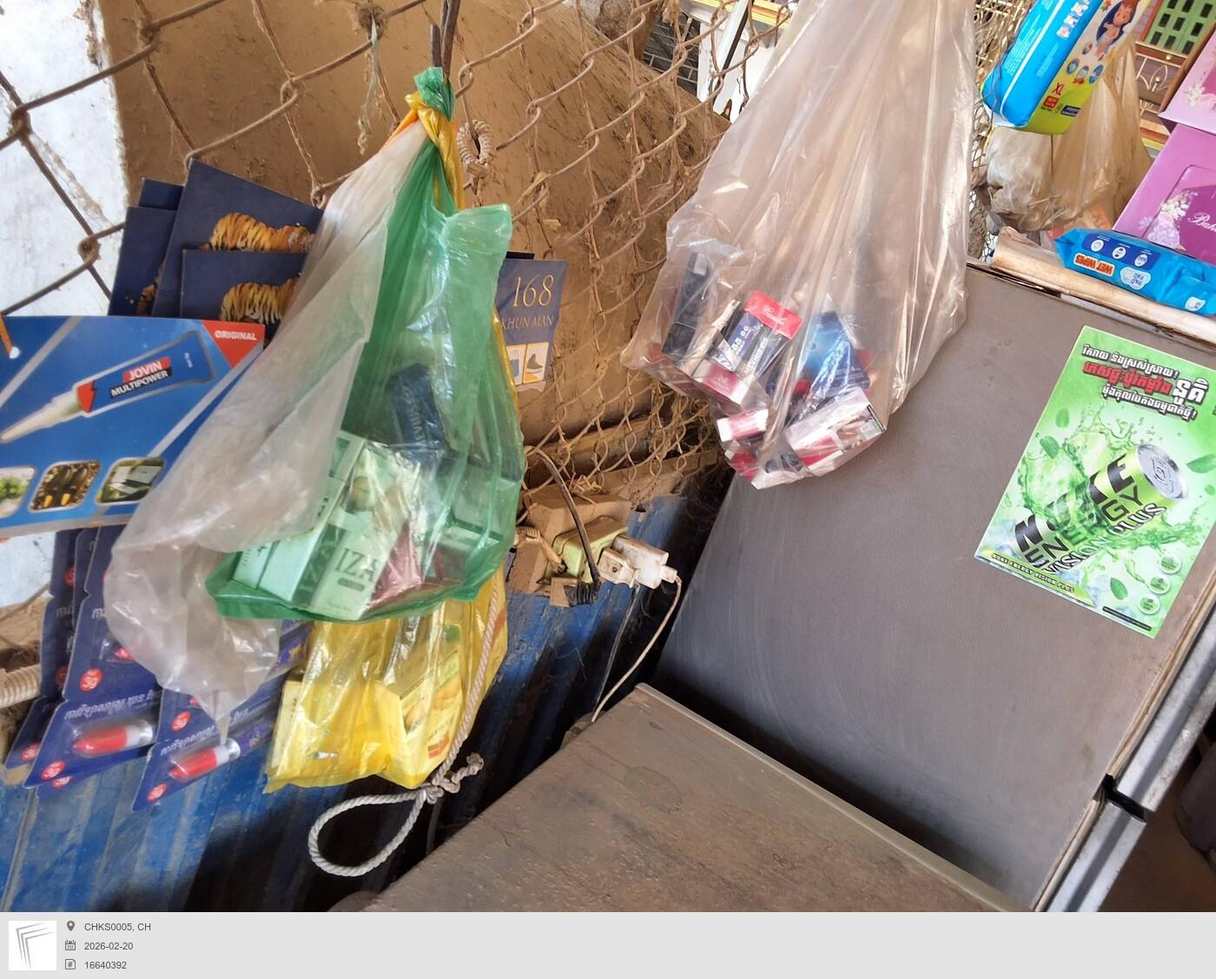cigarette_pack: (235, 416, 428, 624), (372, 634, 475, 787), (390, 356, 522, 467), (788, 390, 890, 483), (790, 304, 880, 395), (715, 300, 797, 385), (710, 447, 792, 495), (684, 359, 762, 403), (704, 405, 772, 441)
